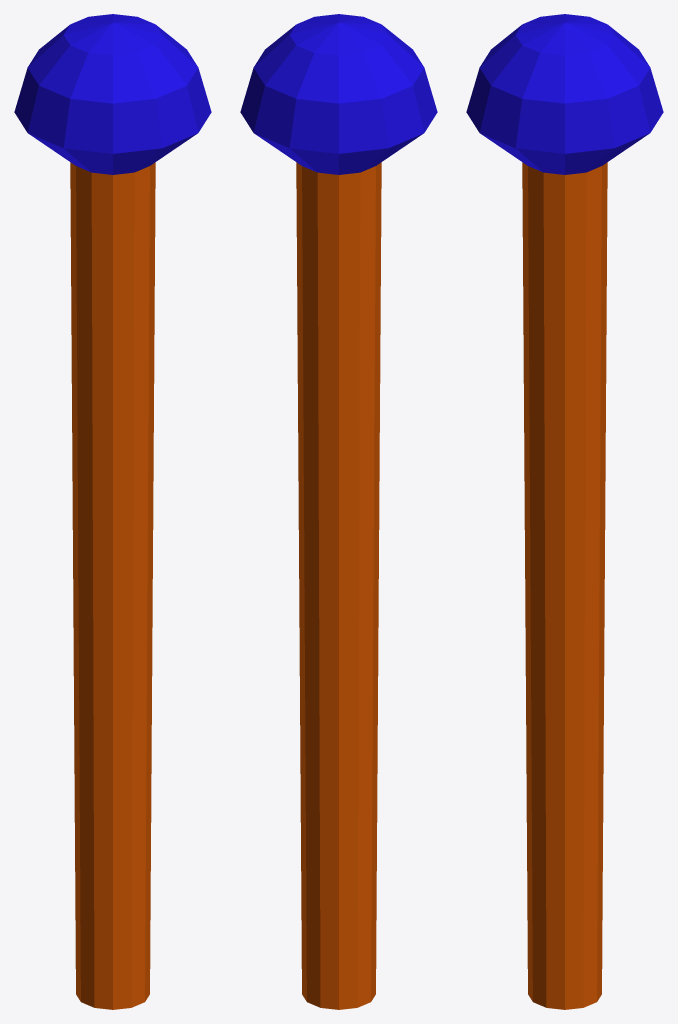
Rendered from Staff.fbx.
3 renders of one model, left to right at view 1: azimuth 30°, elevation 25°; view 2: azimuth 150°, elevation 25°; view 3: azimuth 270°, elevation 25°, orthographic.
Visible parts, largest first — view 1: Sphere; view 2: Sphere; view 3: Sphere.
Part boxes in pixels (x1,y1,x2,y2): Sphere: (14,14,211,1009); Sphere: (240,14,437,1009); Sphere: (466,14,663,1009).
Bounding box in the file's own units: 0.4 × 2.2 × 0.4.
